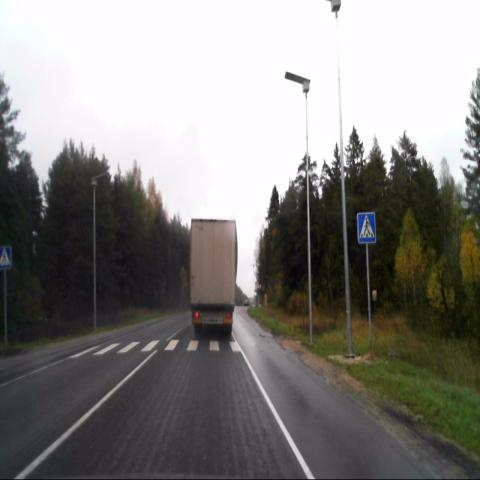5_19_1: (356, 210, 376, 246), (0, 248, 14, 272)
